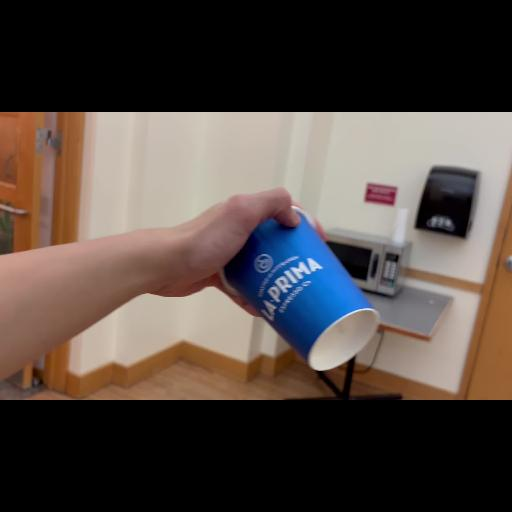lp_paper_cup: (204, 199, 382, 377)
